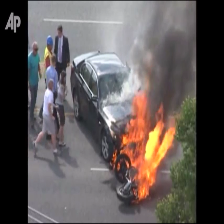fire_h: (120, 78, 176, 197)
fire_l: (109, 149, 117, 171), (117, 158, 130, 171)
